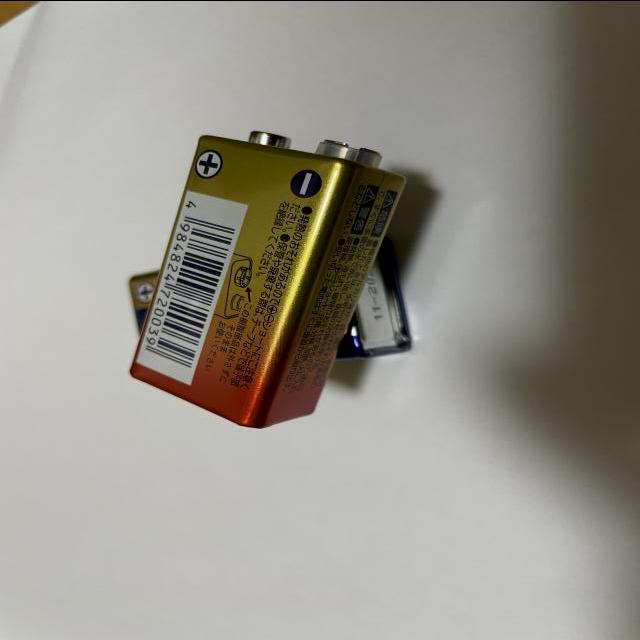9V: (127, 128, 409, 428), (127, 228, 423, 359)
